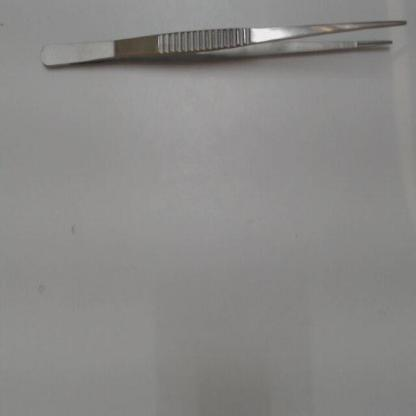DeBakey Dissector: (20, 13, 414, 86)
